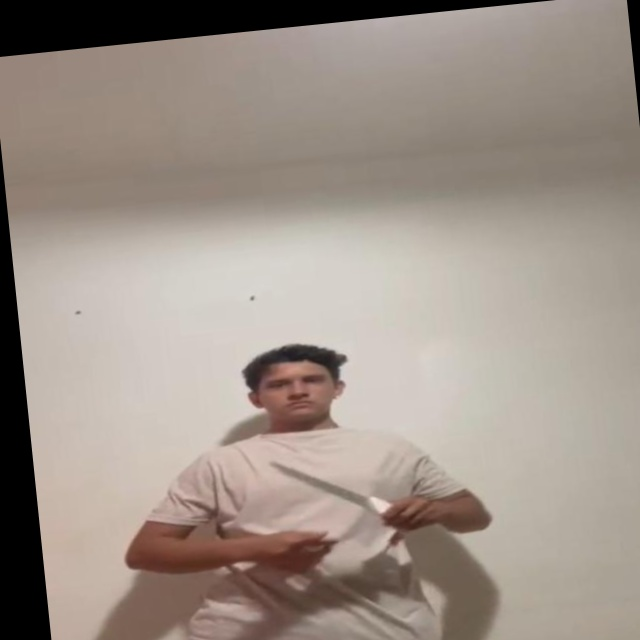Sharp-Object: (267, 454, 379, 520)
